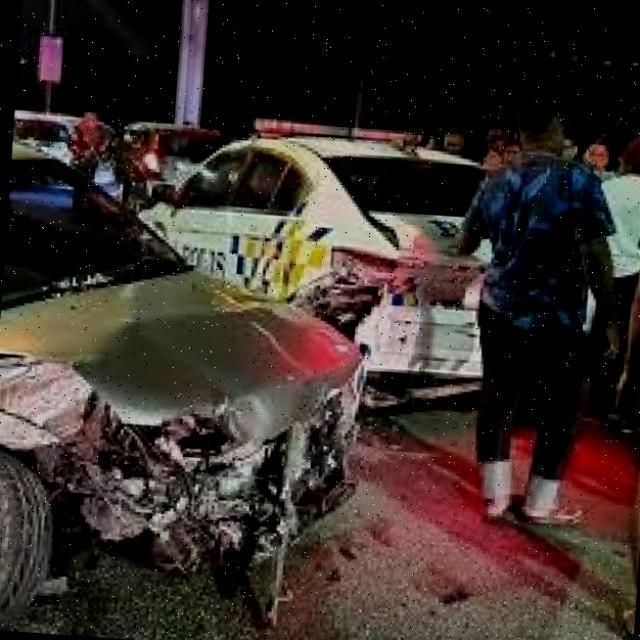accident: (0, 221, 462, 631)
